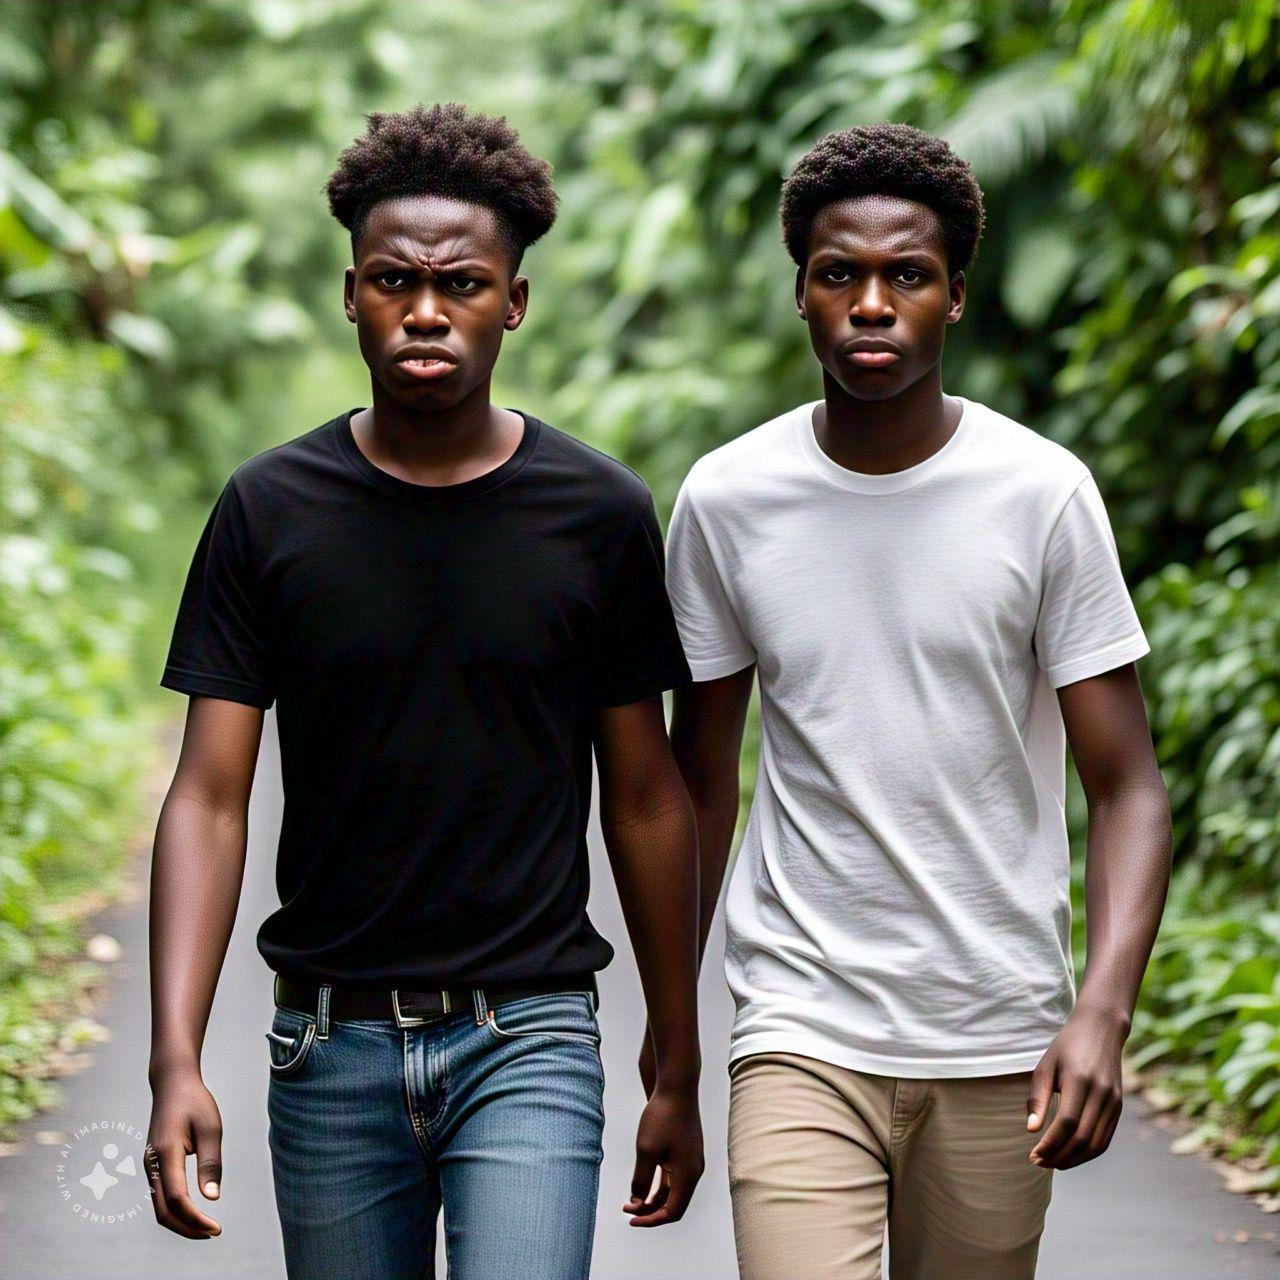normal: (796, 145, 981, 407)
raiva: (346, 165, 536, 414)
